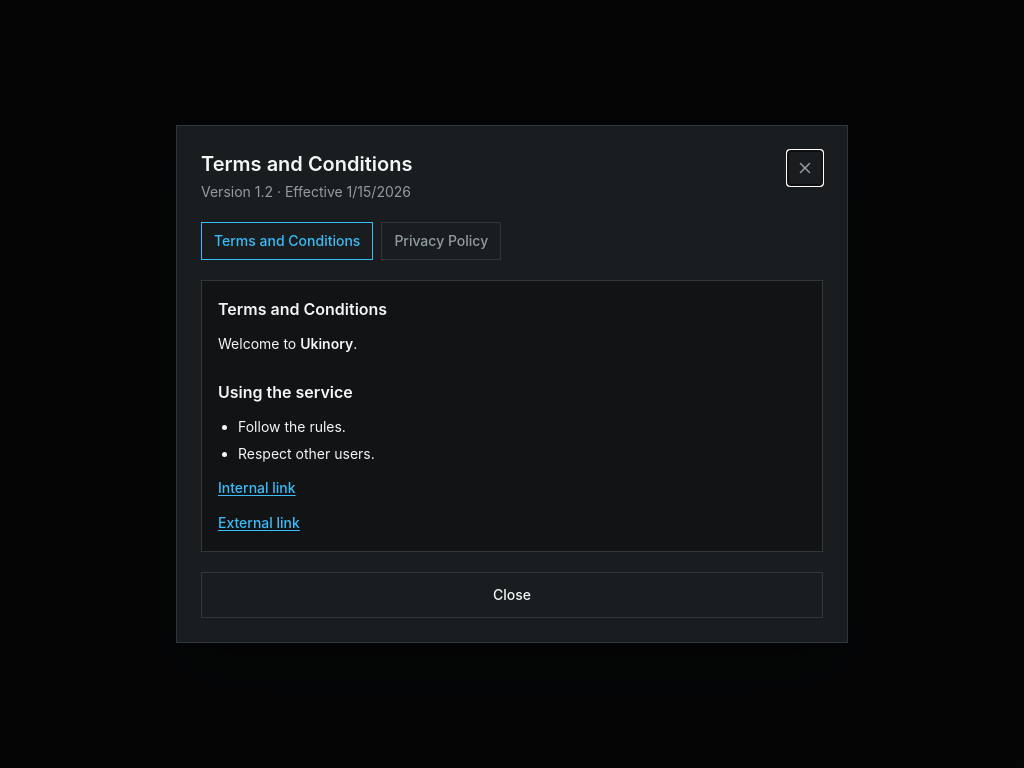
Test case: LegalDocumentModal › switches to the privacy policy when its tab is clicked
Step 1. Click the tab "Privacy Policy" → [441, 241], box [381,222,501,260]
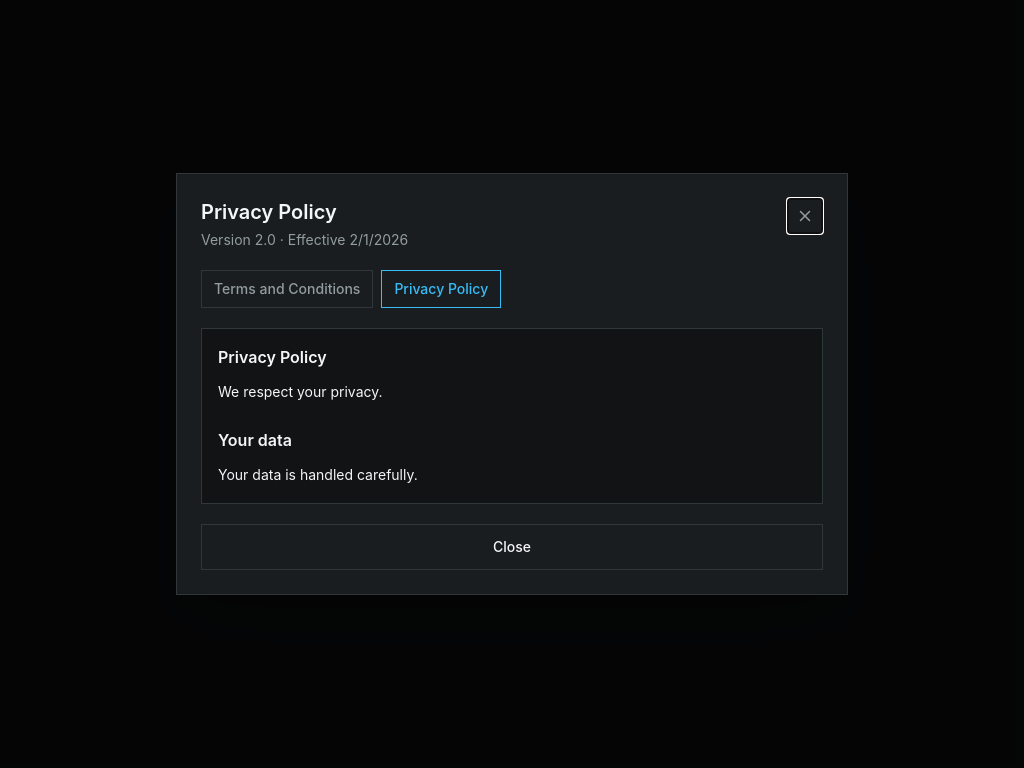
expect the 1st heading "Privacy Policy" is shown: met, box [201,200,337,224]
expect the text "Version 2.0 · Effective 2/1/2026" is shown: met, box [201,230,408,250]
